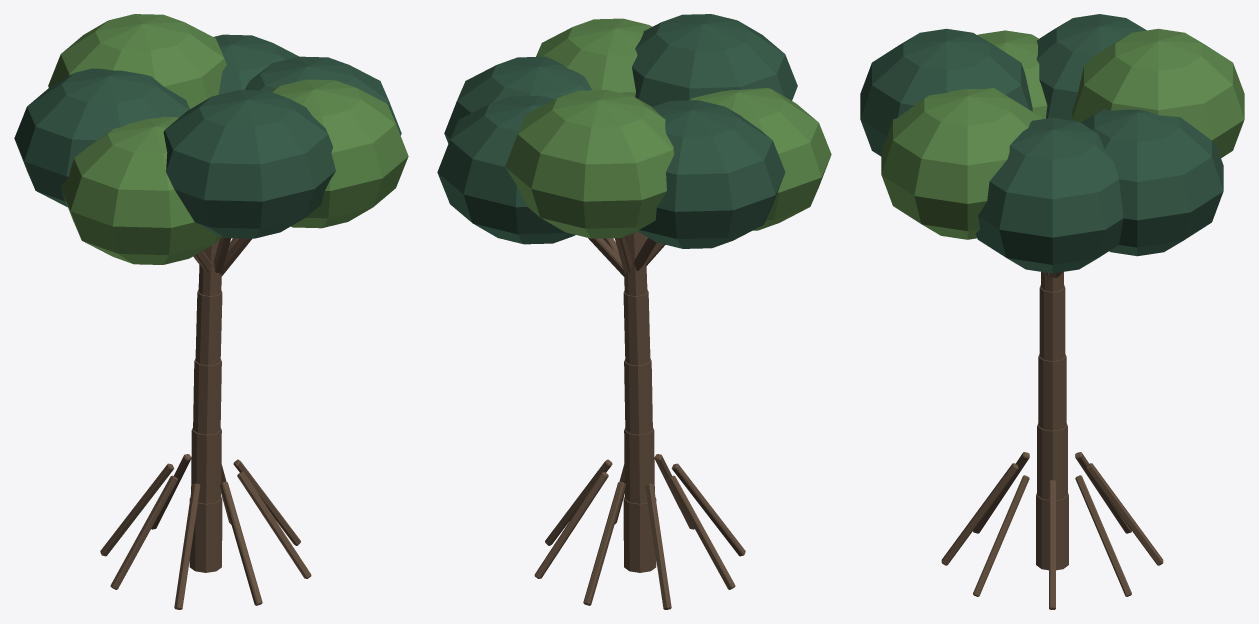
The model's file is nature-banyan.lod0.glb.
3 renders of one model, left to right at view 1: azimuth 30°, elevation 25°; view 2: azimuth 150°, elevation 25°; view 3: azimuth 270°, elevation 25°, orthographic. The views are drawn at different scales.
Visible parts, largest first — view 1: nature-banyan__body; view 2: nature-banyan__body; view 3: nature-banyan__body.
Part boxes in pixels (x1=…): nature-banyan__body: x1=14, y1=14, x2=408, y2=609; nature-banyan__body: x1=437, y1=14, x2=831, y2=609; nature-banyan__body: x1=860, y1=14, x2=1244, y2=609.
Size of the model in its own units: 4.48 by 6.32 by 4.24.
